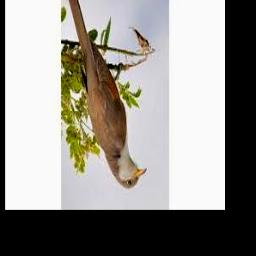Cuckoo: (64, 0, 146, 189)
